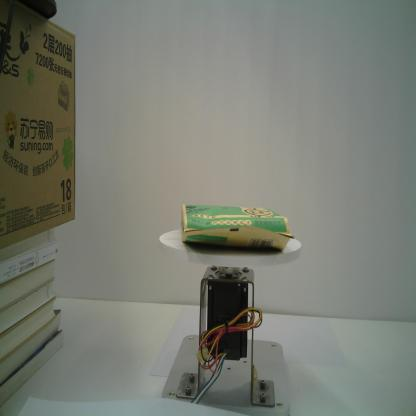Dried Food: (179, 202, 295, 252)
